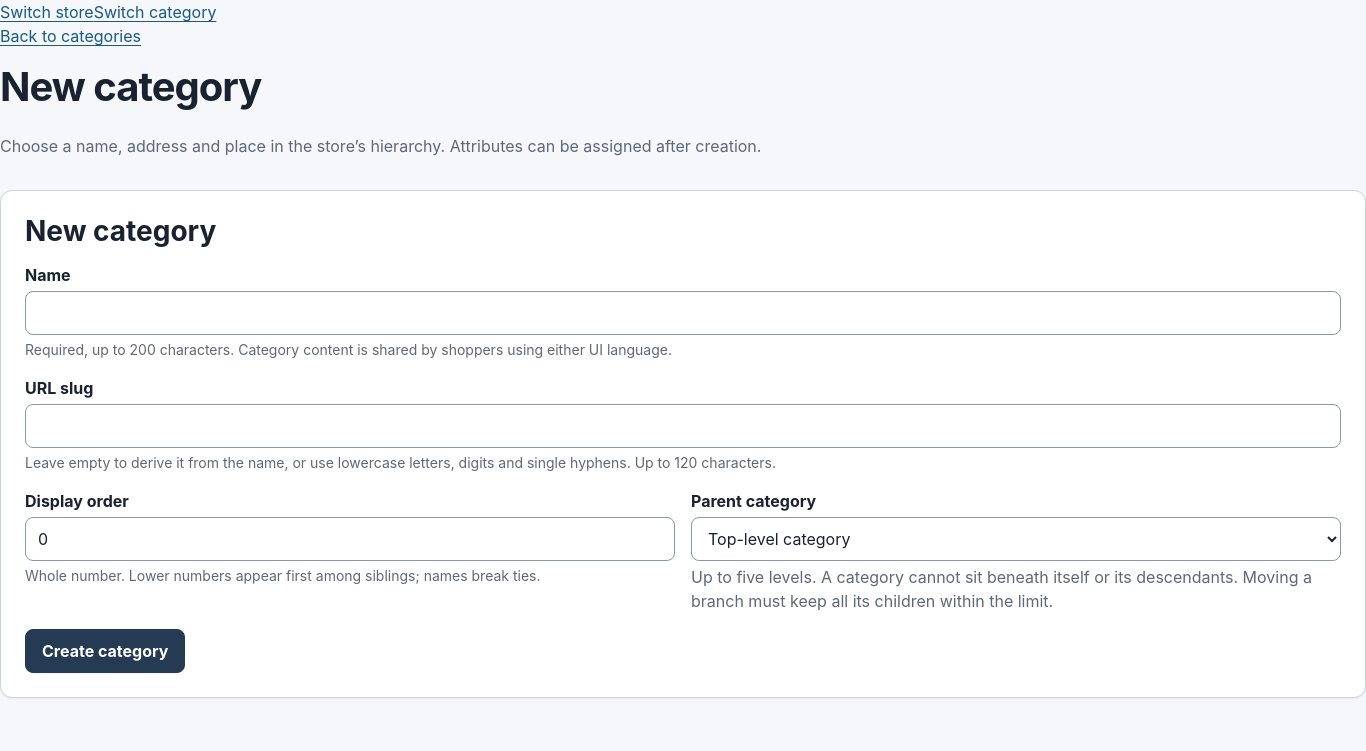
Scenario: focused categories › creates with a derived Czech slug, retains a failed draft and navigates using the returned ID
Type "Žluté židle" into the field labelled "Name".
click(683, 313); type("Žluté židle")  # box [25, 291, 1341, 335]
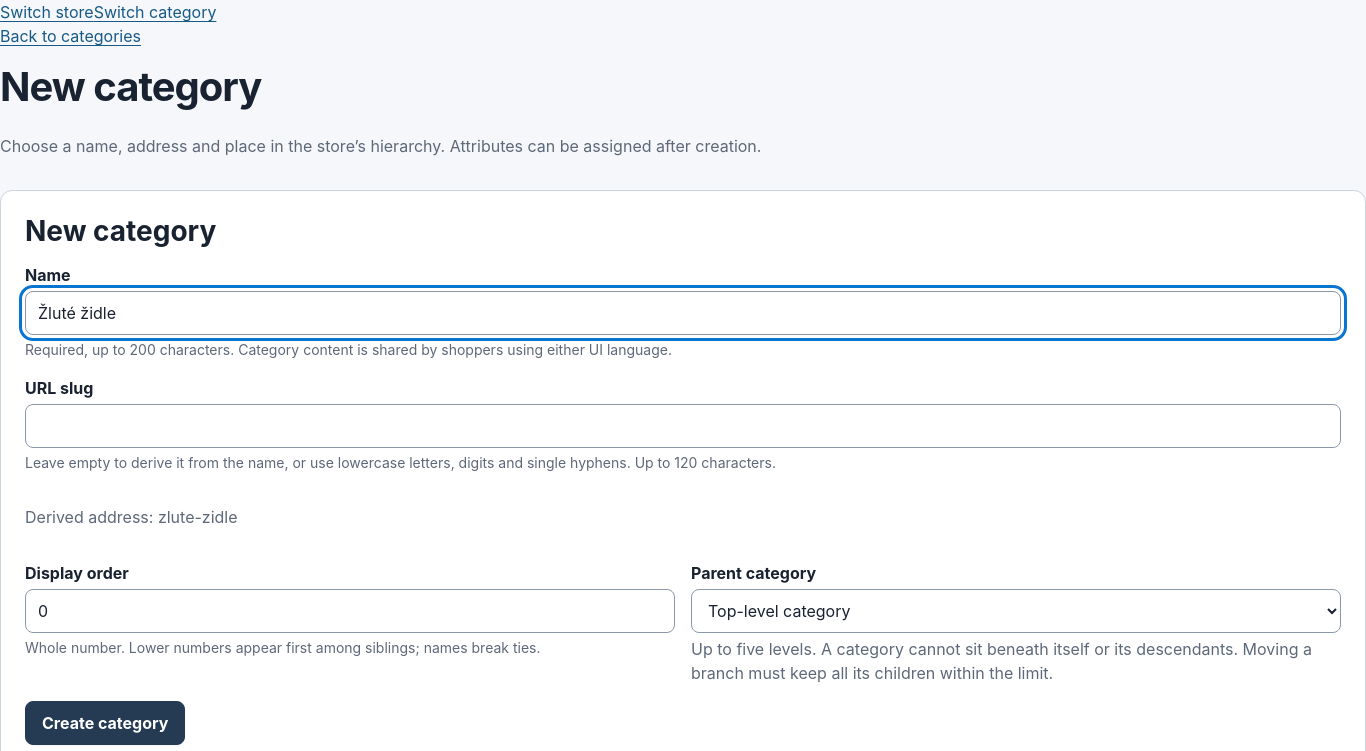
Now the text "Derived address: zlute-zidle" is shown, box [25, 507, 238, 527]
Select "Furniture" in the dropdown labelled "Parent category" at (1016, 611), box [691, 589, 1341, 633]
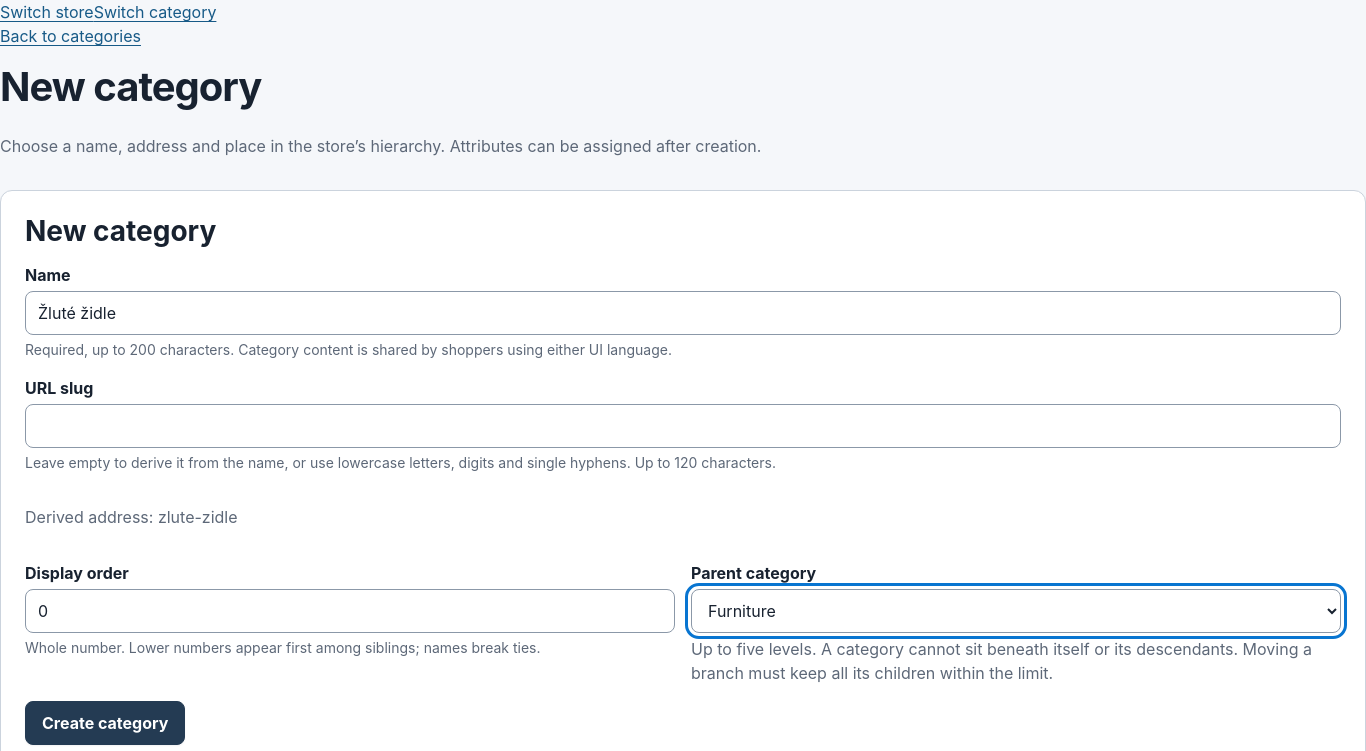
Replace the text in the field labelled "Display order" with "-2" at (350, 611), box [25, 589, 675, 633]
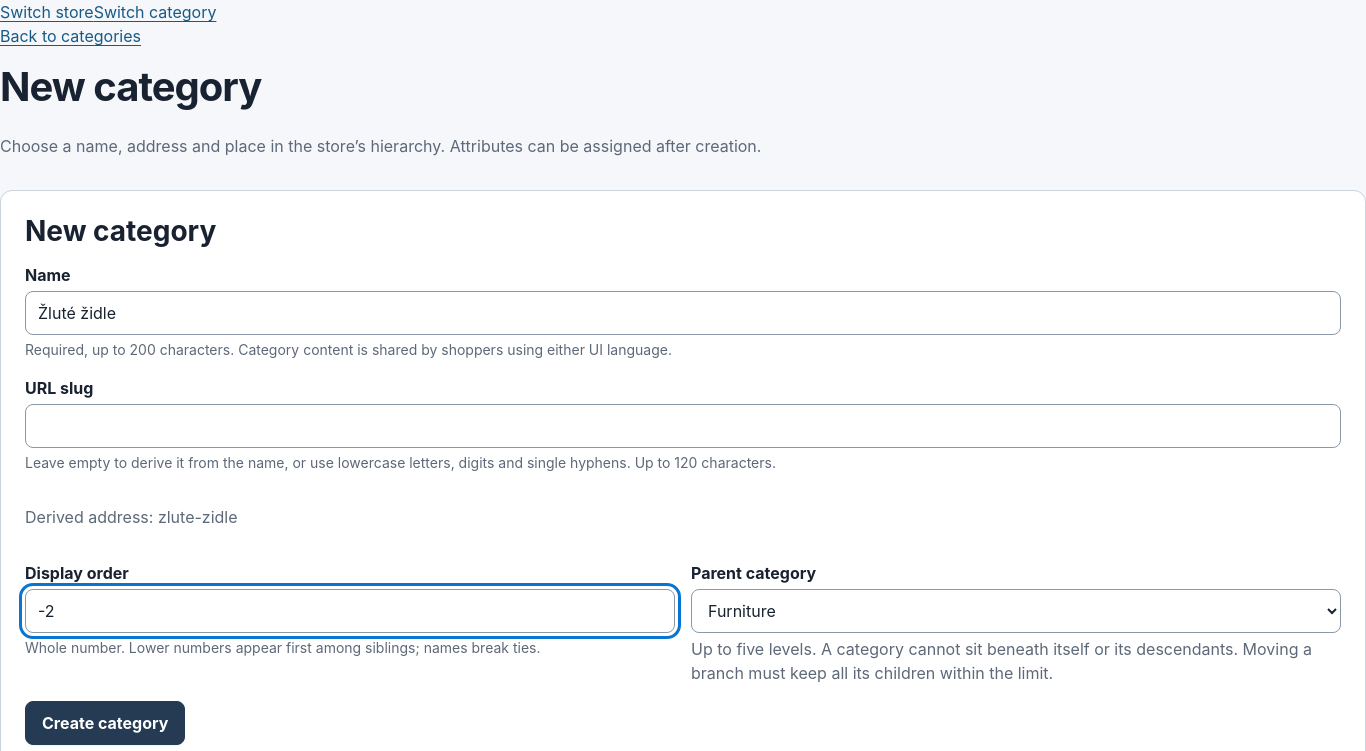
Click the button "Create category".
click(105, 723)  # box [25, 701, 185, 745]
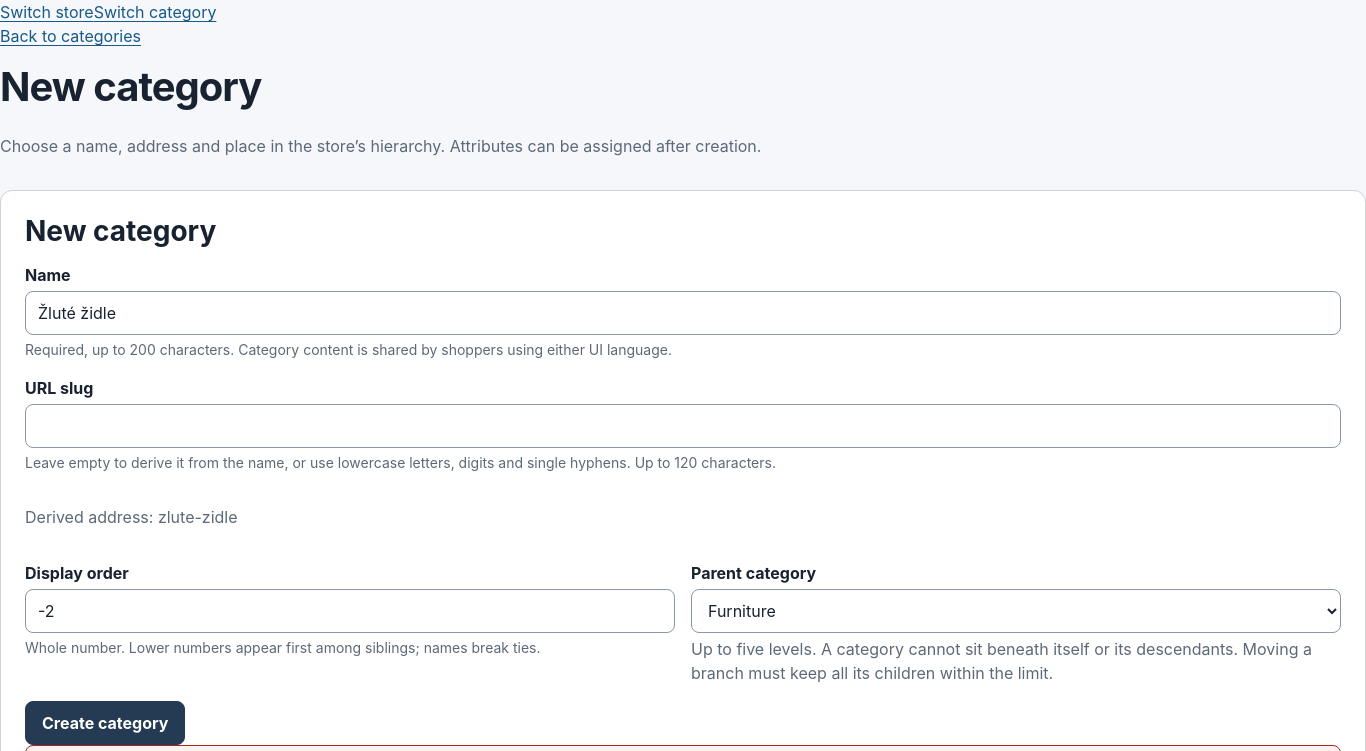
Click the button "Create category".
click(105, 723)  # box [25, 701, 185, 745]
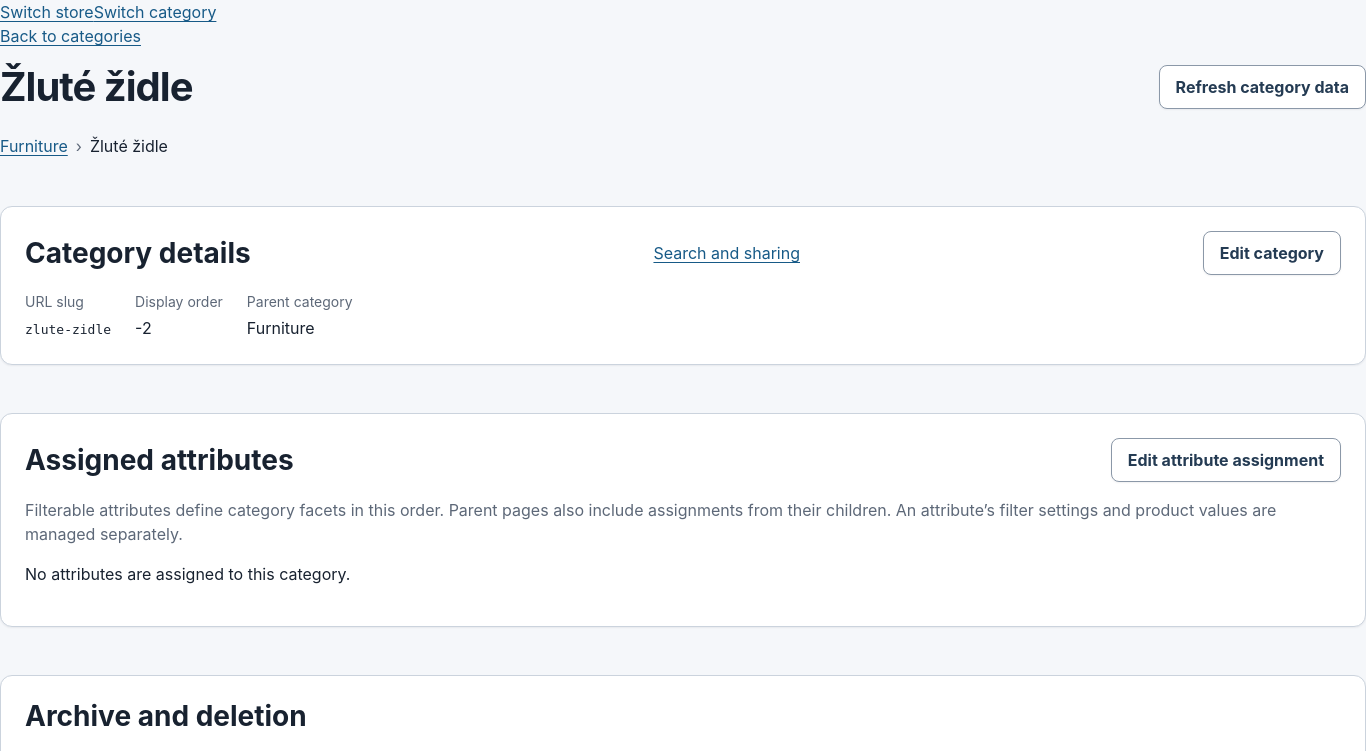
Now the heading "Žluté židle" is shown, box [0, 64, 192, 110]
